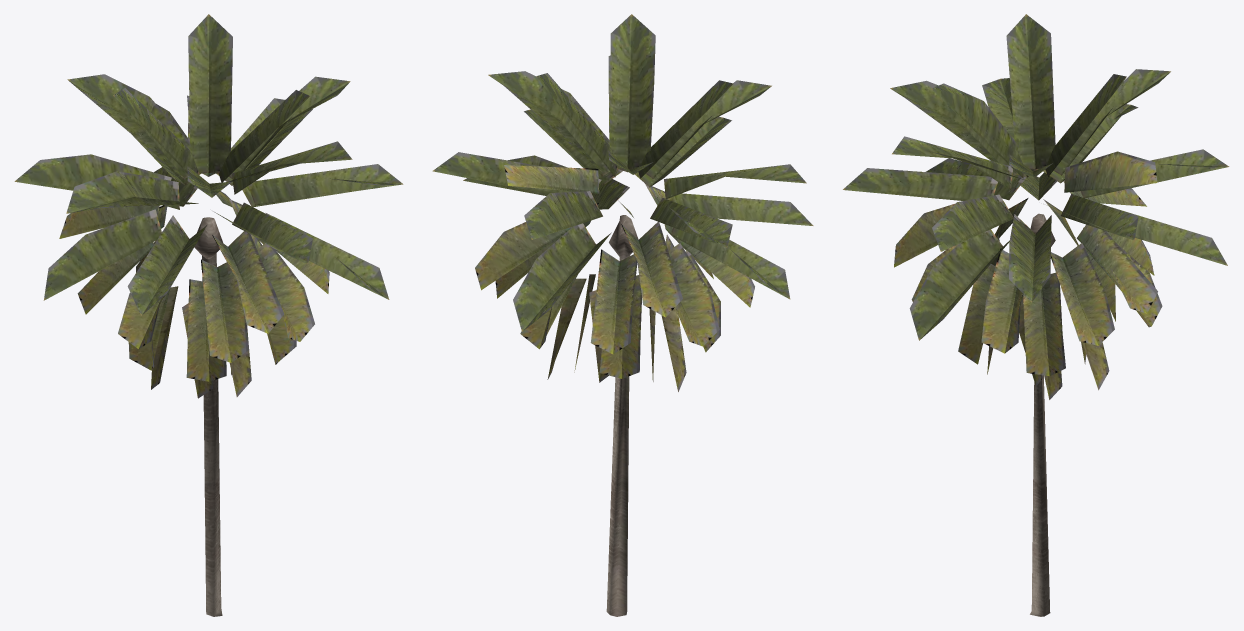
File: tropical-palm-tall-a-map.glb
3 views of the same model, side by side, from view 1: azimuth 30°, elevation 25°; view 2: azimuth 150°, elevation 25°; view 3: azimuth 270°, elevation 25° (orthographic).
Parts seen in each view (by area): view 1: palm_tree_tall_a_LOD0; view 2: palm_tree_tall_a_LOD0; view 3: palm_tree_tall_a_LOD0.
Boxes of the visible parts, x1,y1,x2,y2 form: palm_tree_tall_a_LOD0: [14, 14, 403, 616]; palm_tree_tall_a_LOD0: [432, 14, 813, 616]; palm_tree_tall_a_LOD0: [843, 14, 1229, 616].
Size of the model in its own units: 16.88 by 27.43 by 17.24.
Materials: 1 (1 with a texture image).
